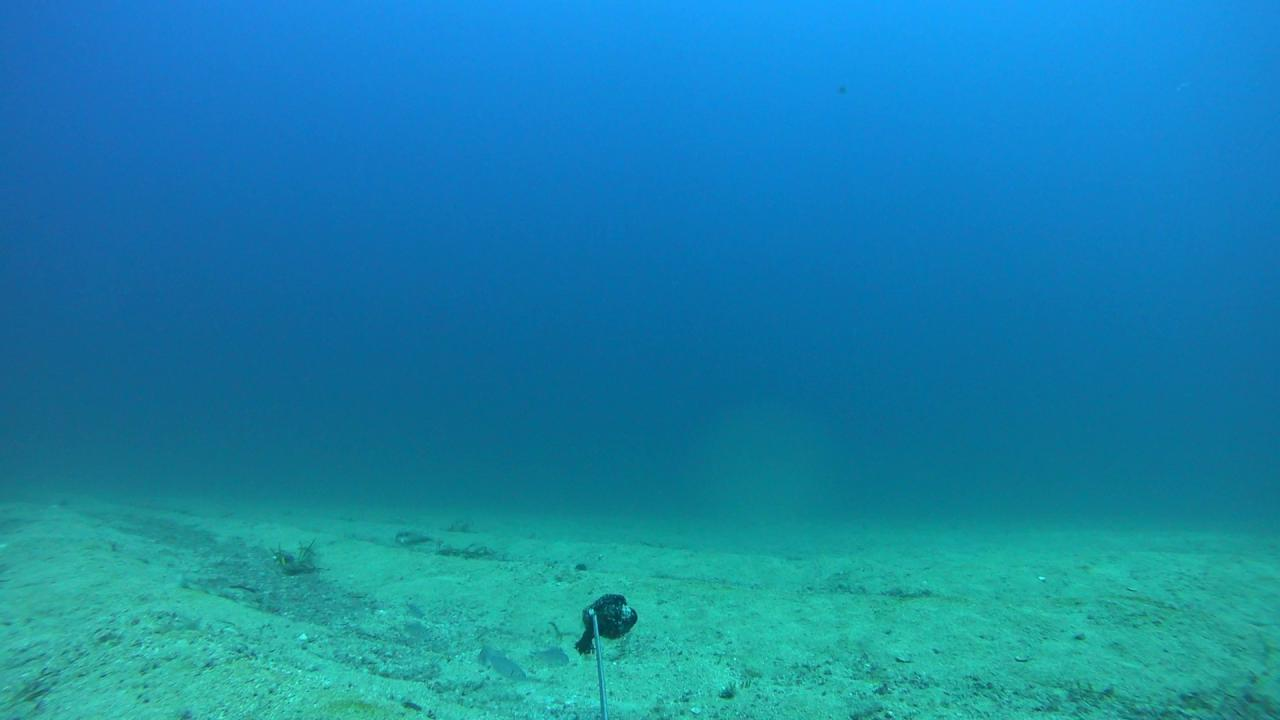pagellus: (478, 644, 524, 680)
